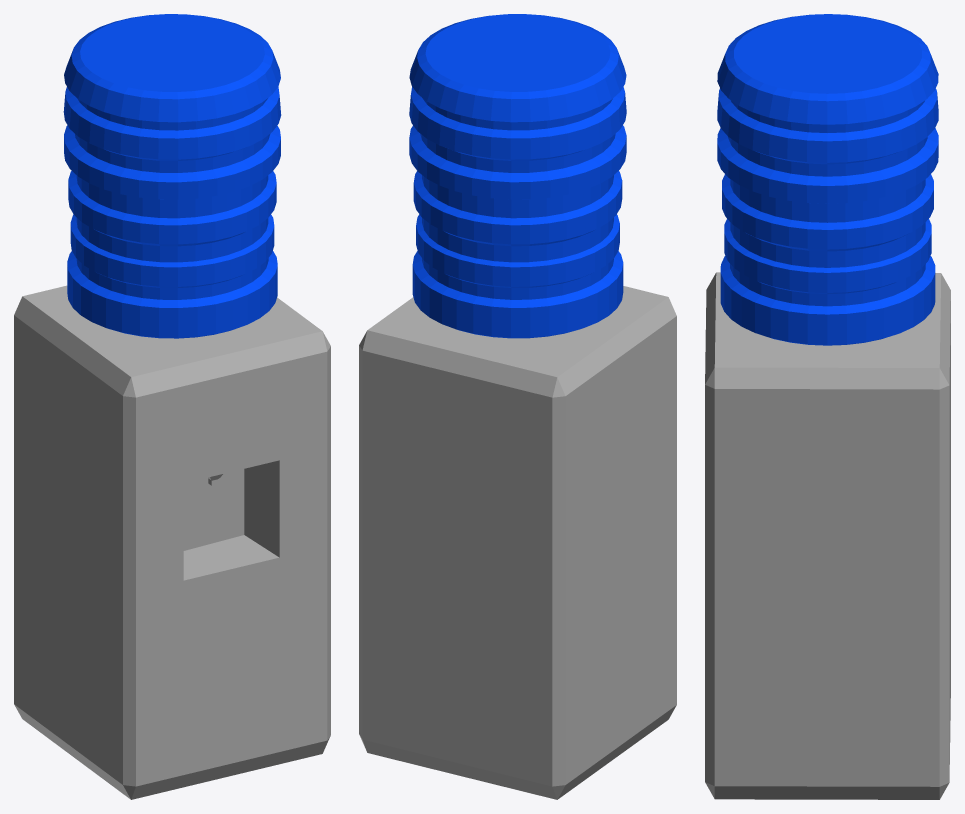
File: WaterDispenser.fbx
3 views of the same model, side by side, from view 1: azimuth 30°, elevation 25°; view 2: azimuth 150°, elevation 25°; view 3: azimuth 270°, elevation 25° (orthographic). The views are drawn at different scales.
Visible parts, largest first — view 1: WaterDispenser, WaterDispenserBottle; view 2: WaterDispenser, WaterDispenserBottle; view 3: WaterDispenser, WaterDispenserBottle.
Boxes of the visible parts, x1,y1,x2,y2 form: WaterDispenser: (14, 285, 330, 799); WaterDispenserBottle: (63, 14, 281, 338); WaterDispenser: (359, 286, 676, 799); WaterDispenserBottle: (409, 14, 626, 338); WaterDispenser: (705, 272, 950, 799); WaterDispenserBottle: (717, 14, 938, 345).
Bounding box in the file's own units: 45.23 × 45.23 × 142.
